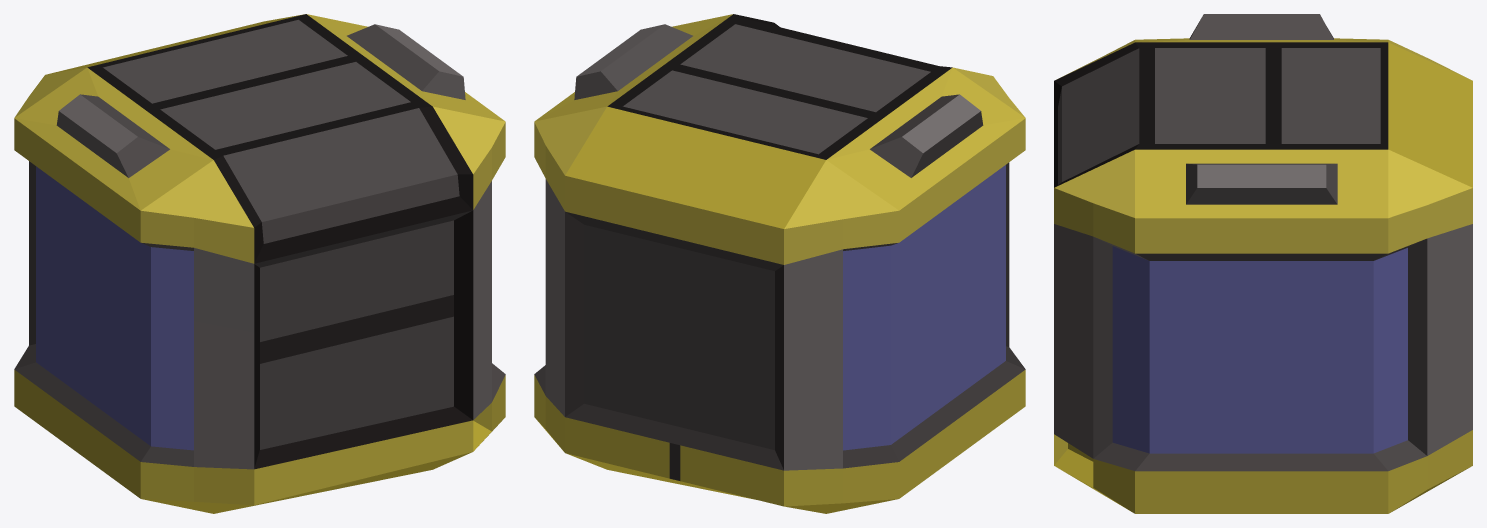
3 renders of one model, left to right at view 1: azimuth 30°, elevation 25°; view 2: azimuth 150°, elevation 25°; view 3: azimuth 270°, elevation 25°, orthographic.
Visible parts, largest first — view 1: pCube1; view 2: pCube1; view 3: pCube1.
Boxes of the visible parts, x1,y1,x2,y2 form: pCube1: (14,14,505,513); pCube1: (534,14,1025,513); pCube1: (1054,14,1472,513).
Size of the model in its own units: 100 by 97.23 by 99.2.
